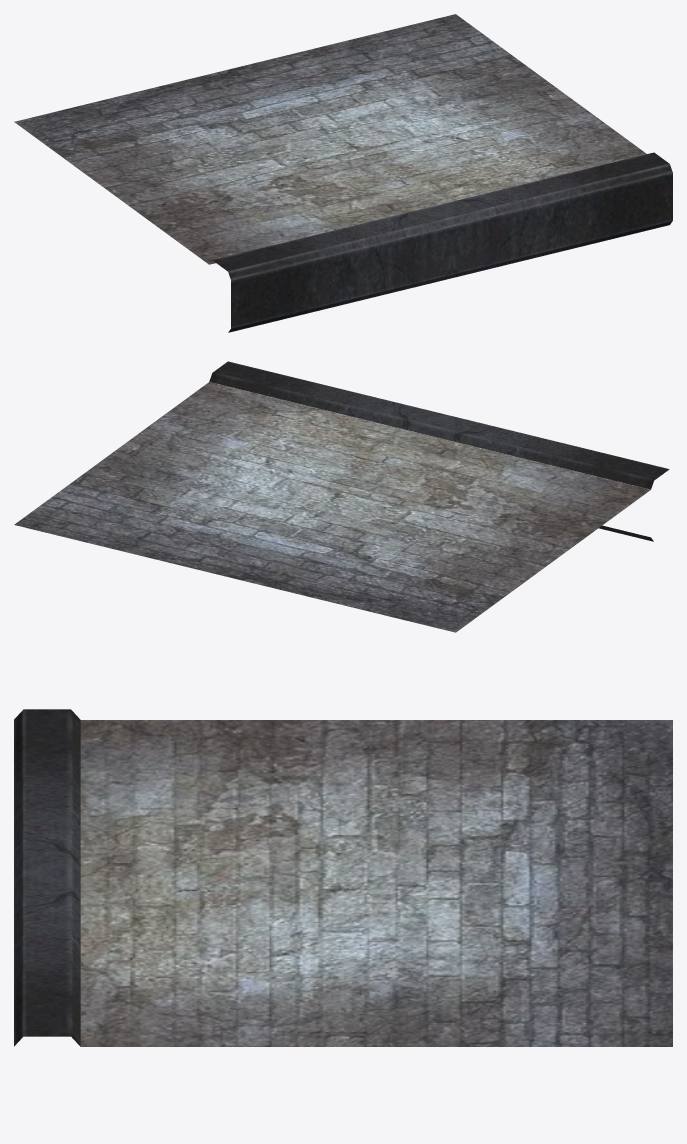
3 views of the same model, one above another, from view 1: azimuth 30°, elevation 25°; view 2: azimuth 150°, elevation 25°; view 3: azimuth 270°, elevation 25° (orthographic). The views are drawn at different scales.
Parts seen in each view (by area): view 1: model_Object08; view 2: model_Object08; view 3: model_Object08.
Part boxes in pixels (x1,y1,x2,y2): model_Object08: (14,14,672,332); model_Object08: (14,361,669,632); model_Object08: (14,709,672,1046).
Size of the model in its own units: 1.88 by 0.249 by 1.6.
Materials: 2 (2 with a texture image).
